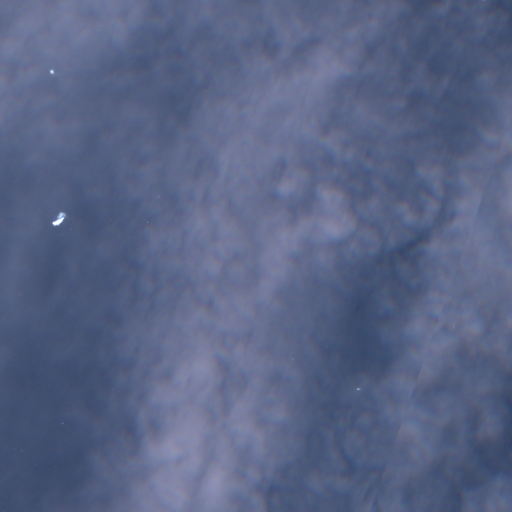Iceberg: (52, 212, 65, 225), (50, 69, 53, 73), (357, 388, 359, 389)
